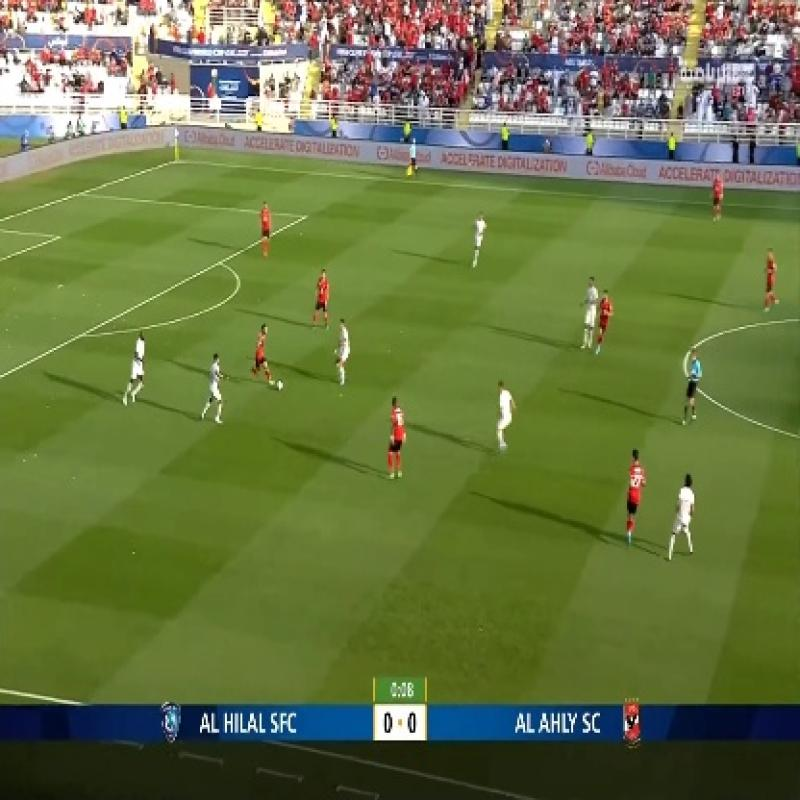1: (171, 154, 183, 162)
10: (216, 254, 224, 268)
11: (71, 322, 104, 346)
2: (76, 186, 86, 196)
7: (52, 231, 60, 240)
9: (298, 208, 308, 226)
c: (672, 349, 700, 380)
